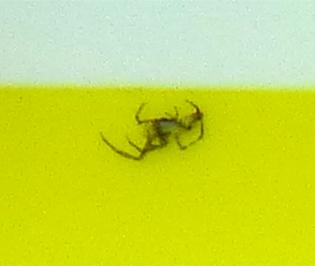Araneae: (100, 100, 215, 166)
